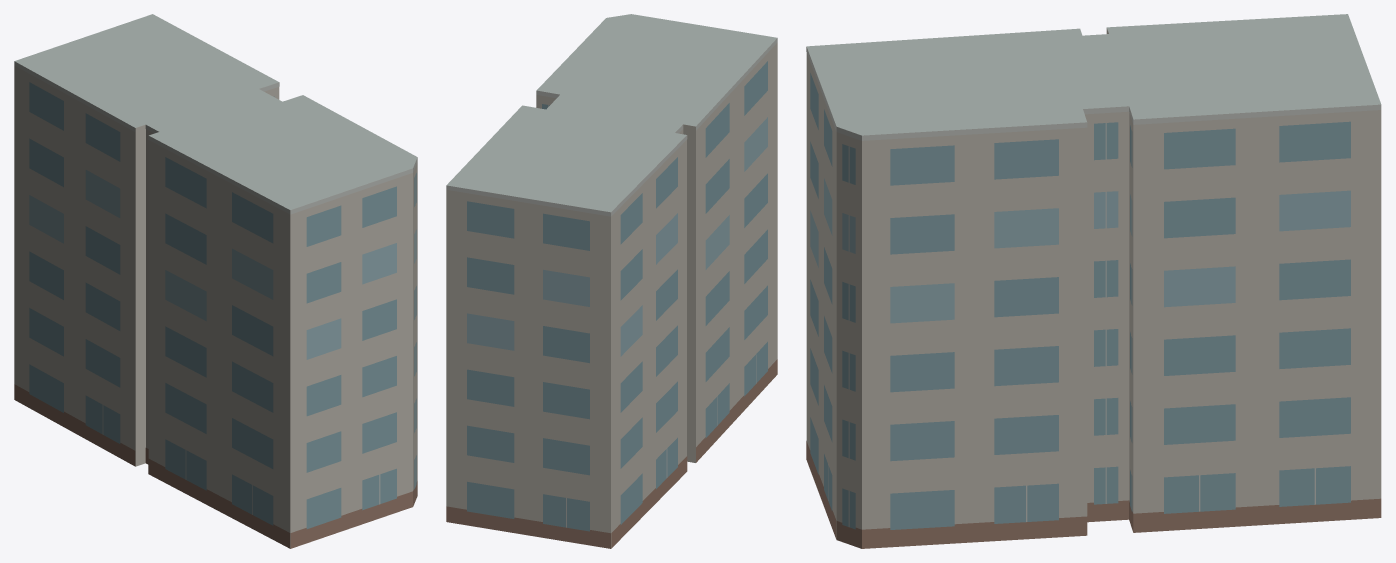
File: survey-upis-33038487.glb
3 views of the same model, side by side, from view 1: azimuth 30°, elevation 25°; view 2: azimuth 150°, elevation 25°; view 3: azimuth 270°, elevation 25° (orthographic). The views are drawn at different scales.
Parts seen in each view (by area): view 1: survey-upis-33038487.tmp; view 2: survey-upis-33038487.tmp; view 3: survey-upis-33038487.tmp.
Boxes of the visible parts, <box> form: survey-upis-33038487.tmp: <box>14,14,417,548</box>; survey-upis-33038487.tmp: <box>446,14,777,548</box>; survey-upis-33038487.tmp: <box>806,14,1381,548</box>.
Size of the model in its own units: 11.87 by 18.8 by 23.71.
